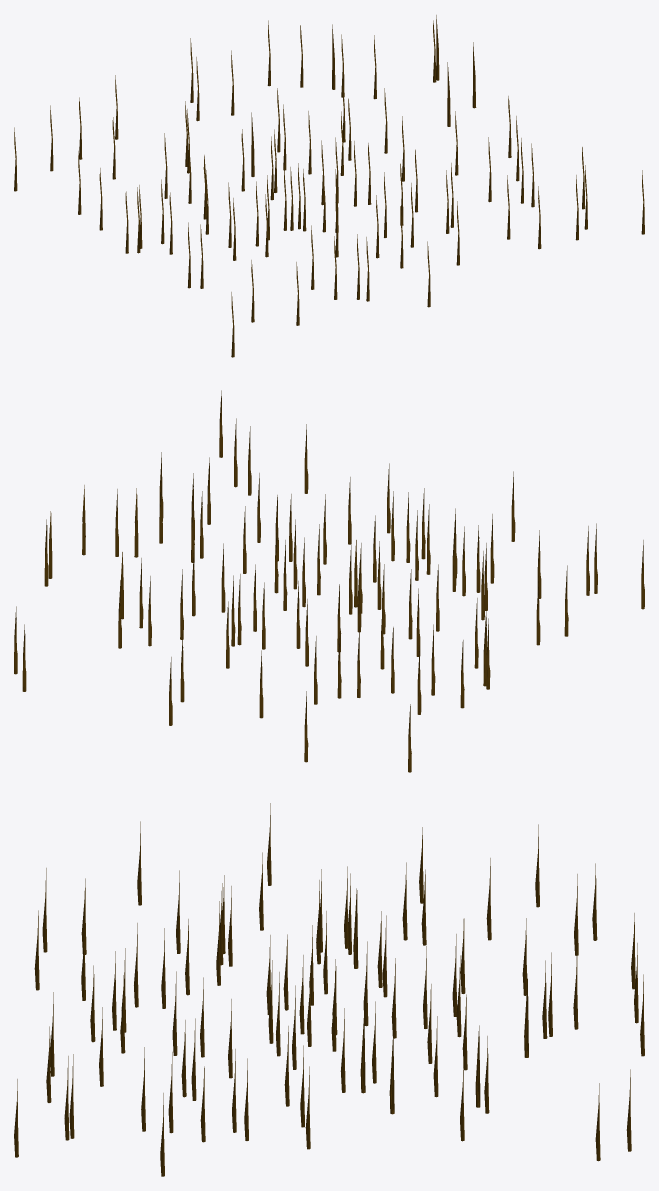
File: gazonMort.fbx
The picture shows the model from 3 angles, top to bottom: view 1: azimuth 30°, elevation 25°; view 2: azimuth 150°, elevation 25°; view 3: azimuth 270°, elevation 25°; orthographic projection. The views are drawn at different scales.
Parts seen in each view (by area): view 1: Cylinder; view 2: Cylinder; view 3: Cylinder.
Part boxes in pixels (box(x1,y1,x2,y2)): Cylinder: box(14, 15, 644, 357); Cylinder: box(14, 390, 644, 772); Cylinder: box(14, 803, 644, 1176).
Size of the model in its own units: 182 by 52.64 by 186.
1 material, 1 textured.
